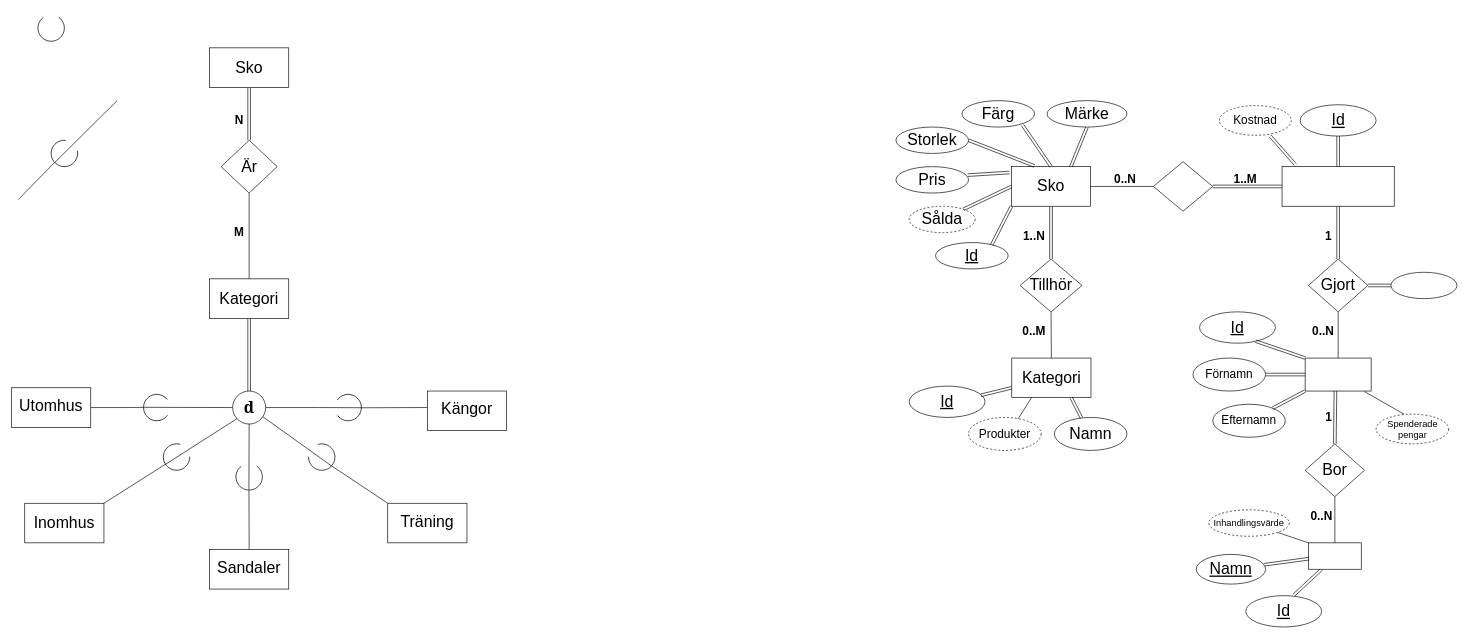
This 1469x639 diagram has some shape labels left out. Here are the shapes that lost their labels. From the top down, the centre of each, then its label:
At (1183,186): "Har".
At (1337,186): "Beställning".
At (1423,285): "Månad".
At (1337,374): "Kund".
At (1334,555): "Ort".
